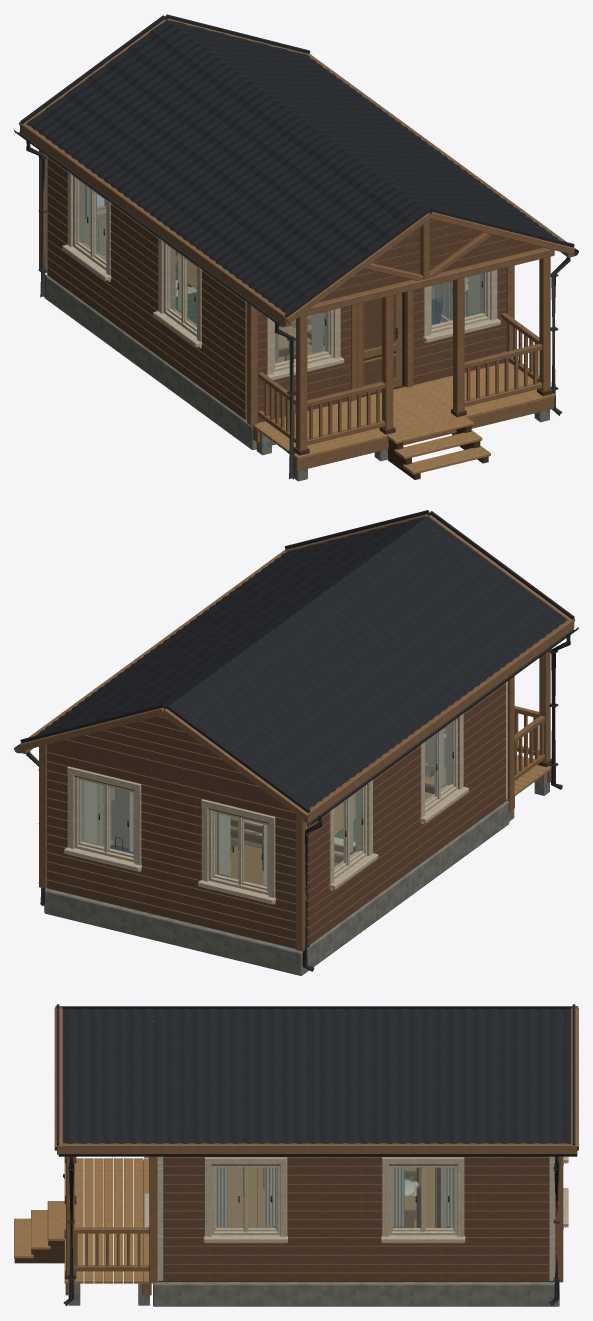
The model's file is cabin_furnished.glb.
The picture shows the model from 3 angles, top to bottom: view 1: azimuth 30°, elevation 25°; view 2: azimuth 150°, elevation 25°; view 3: azimuth 270°, elevation 25°; orthographic projection. The views are drawn at different scales.
Parts seen in each view (by area): view 1: Roof_and_gables.002, Porch.002, Wall_with_openings.010, Wall_with_openings.008, Floor.002, Window_frame_glazing.013, Window_frame_glazing.014, Window_frame_glazing.010, Gutters.002, Window_frame_glazing.009, Door_Leaf.003, Door_frame.003 (+6 smaller); view 2: Roof_and_gables.002, Wall_with_openings.009, Wall_with_openings.010, Floor.002, Window_frame_glazing.011, Window_frame_glazing.012, Porch.002, Window_frame_glazing.013, Window_frame_glazing.014, Gutters.002, Corner_trim.005, Corner_trim.007 (+6 smaller); view 3: Roof_and_gables.002, Wall_with_openings.011, Porch.002, Floor.002, Window_frame_glazing.015, Window_frame_glazing.016, Gutters.002, Curtains.015, Curtains.016, Corner_trim.006, Corner_trim.007, Wall_with_openings.008 (+3 smaller).
Part boxes in pixels (<box>): Roof_and_gables.002: <box>18,14,575,326</box>; Porch.002: <box>252,256,554,481</box>; Wall_with_openings.010: <box>47,156,246,419</box>; Wall_with_openings.008: <box>257,267,506,422</box>; Floor.002: <box>44,255,441,449</box>; Window_frame_glazing.013: <box>62,170,111,281</box>; Window_frame_glazing.014: <box>153,237,202,348</box>; Window_frame_glazing.010: <box>422,270,500,343</box>; Gutters.002: <box>14,130,578,479</box>; Window_frame_glazing.009: <box>266,308,344,380</box>; Door_Leaf.003: <box>358,293,402,395</box>; Door_frame.003: <box>351,290,413,401</box>; Roof_and_gables.002: <box>18,510,575,822</box>; Wall_with_openings.009: <box>47,744,295,948</box>; Wall_with_openings.010: <box>306,682,505,945</box>; Floor.002: <box>44,787,509,975</box>; Window_frame_glazing.011: <box>198,799,276,904</box>; Window_frame_glazing.012: <box>64,766,142,871</box>; Porch.002: <box>444,650,551,821</box>; Window_frame_glazing.013: <box>329,779,378,890</box>; Window_frame_glazing.014: <box>419,713,468,824</box>; Gutters.002: <box>14,627,578,971</box>; Corner_trim.005: <box>296,814,306,951</box>; Corner_trim.007: <box>39,745,47,888</box>; Roof_and_gables.002: <box>54,1004,578,1154</box>; Wall_with_openings.011: <box>163,1156,549,1281</box>; Porch.002: <box>14,1156,152,1305</box>; Floor.002: <box>153,1167,559,1306</box>; Window_frame_glazing.015: <box>203,1157,287,1243</box>; Window_frame_glazing.016: <box>381,1157,465,1243</box>; Gutters.002: <box>58,1151,577,1306</box>; Curtains.015: <box>216,1167,275,1227</box>; Curtains.016: <box>393,1167,453,1227</box>; Corner_trim.006: <box>149,1156,157,1282</box>; Corner_trim.007: <box>555,1156,563,1282</box>; Wall_with_openings.008: <box>157,1156,163,1280</box>.
Bounding box in the file's own units: 5.81 × 4.57 × 9.72.
Materials: 28 (28 with a texture image).
